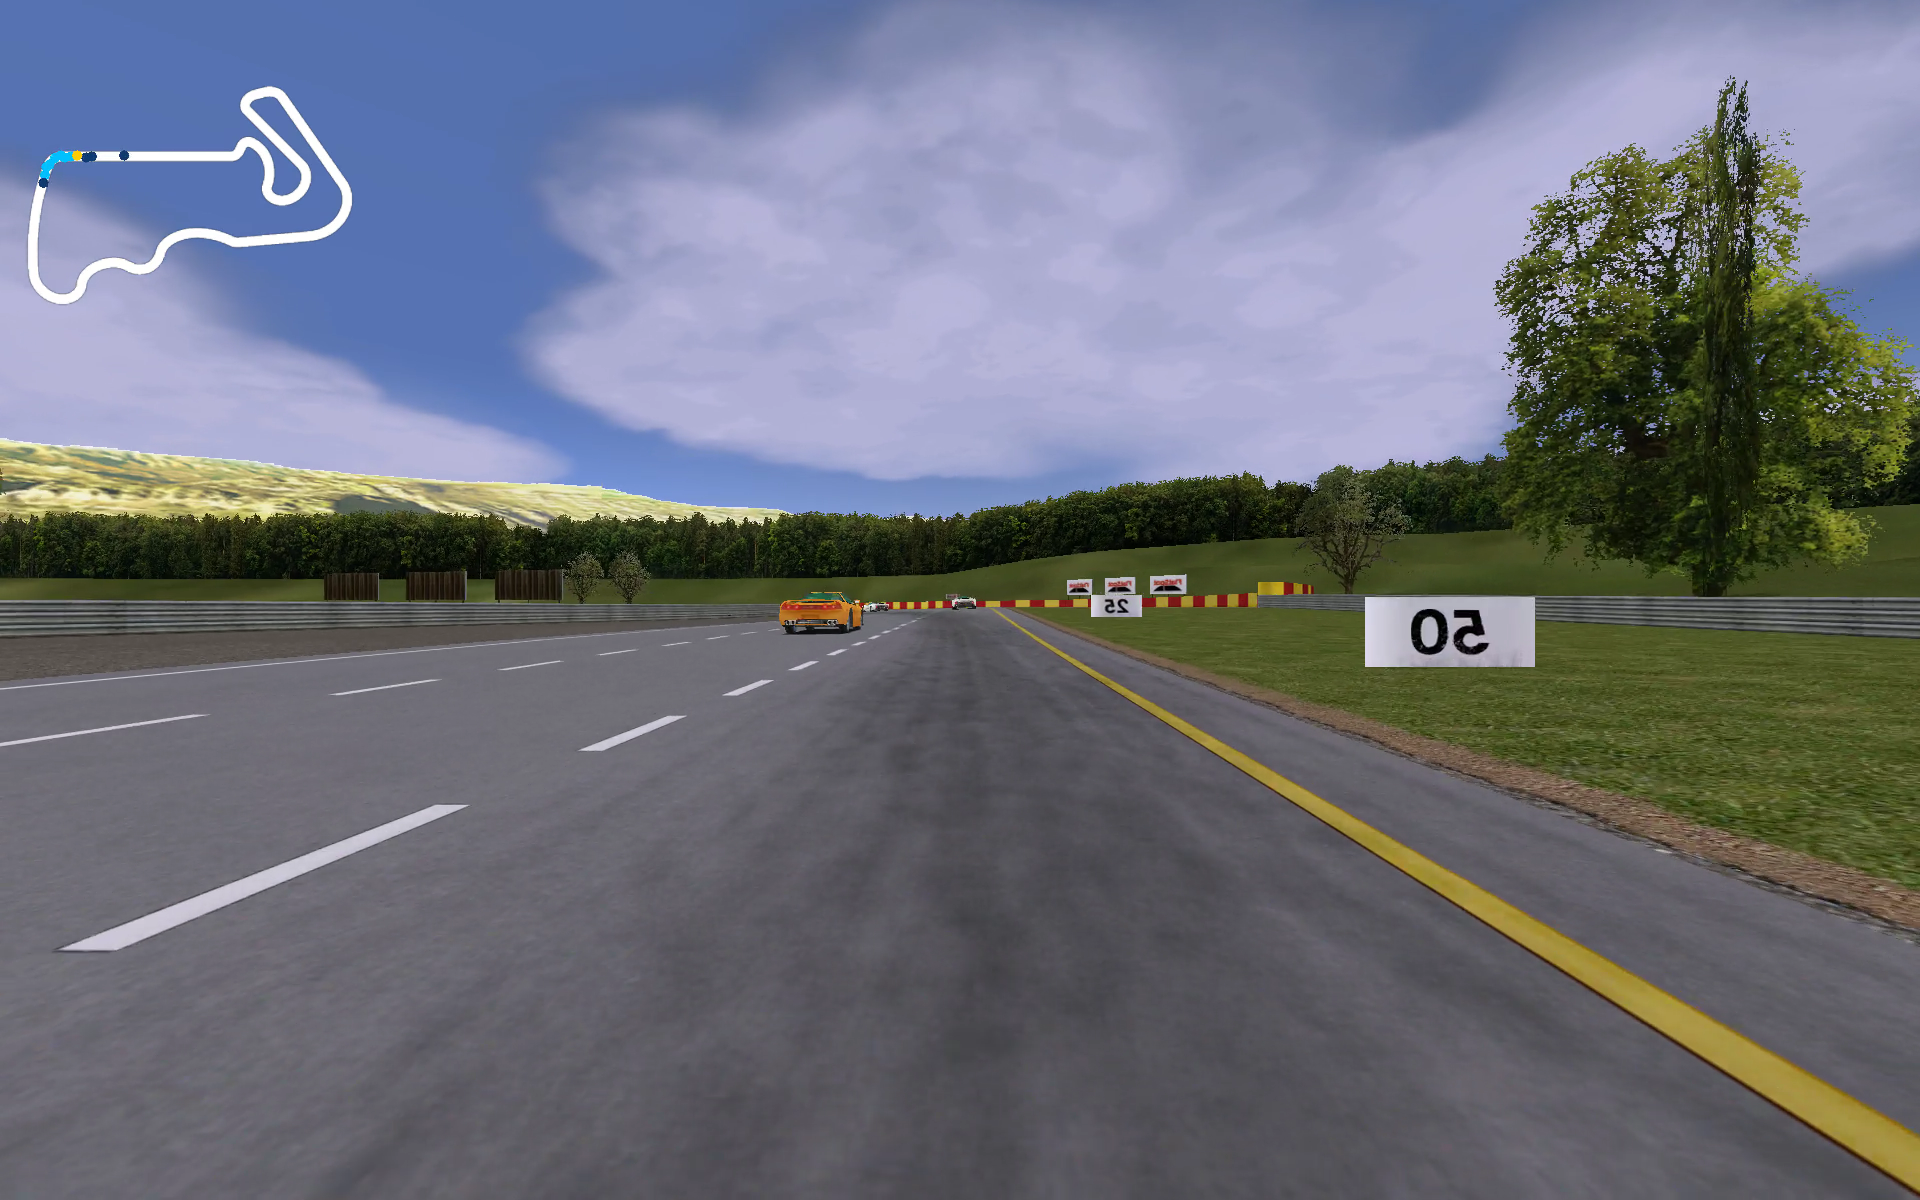car: (778, 589, 868, 637), (948, 594, 980, 611)
